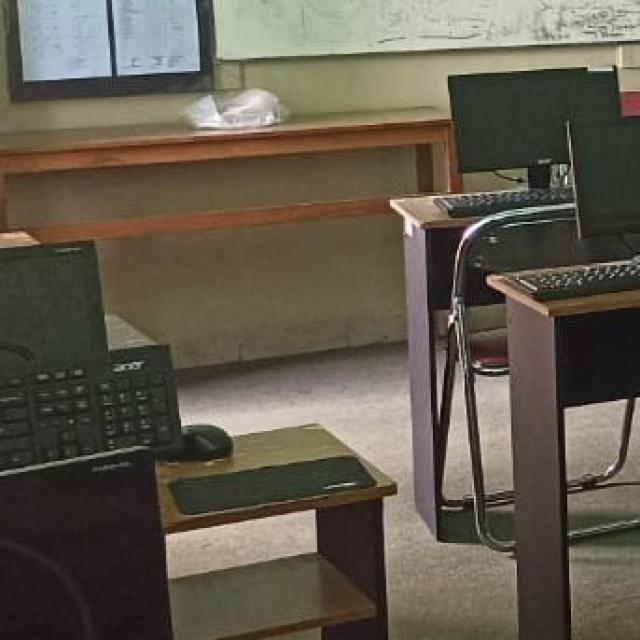offscreen: (451, 70, 640, 172), (571, 119, 640, 237)
